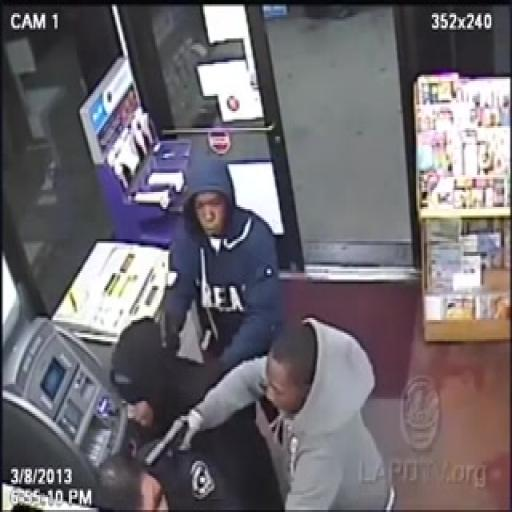Handgun: (139, 408, 192, 467)
